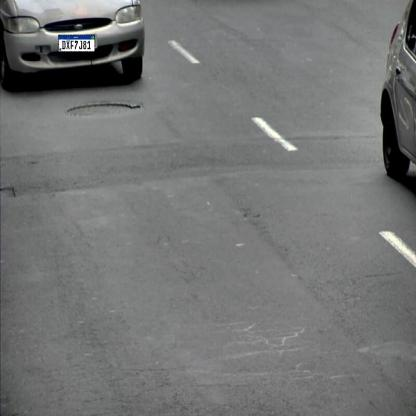PlacaM: (58, 35, 95, 52)
